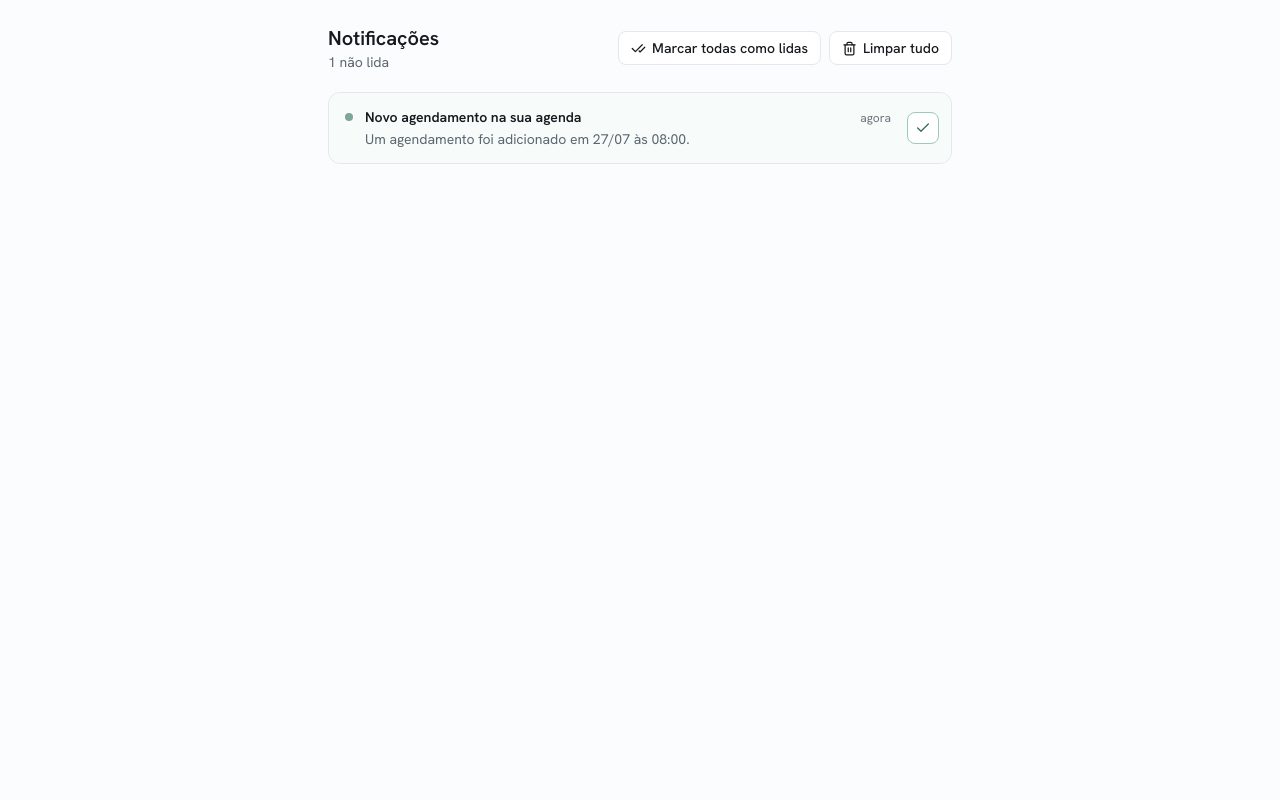
Test case: tela de notificações › limpar tudo › só apaga depois de confirmar
Expected: the button "apagar tudo" is not shown
Click the button "Limpar tudo" at (890, 48), box [829, 31, 952, 65]
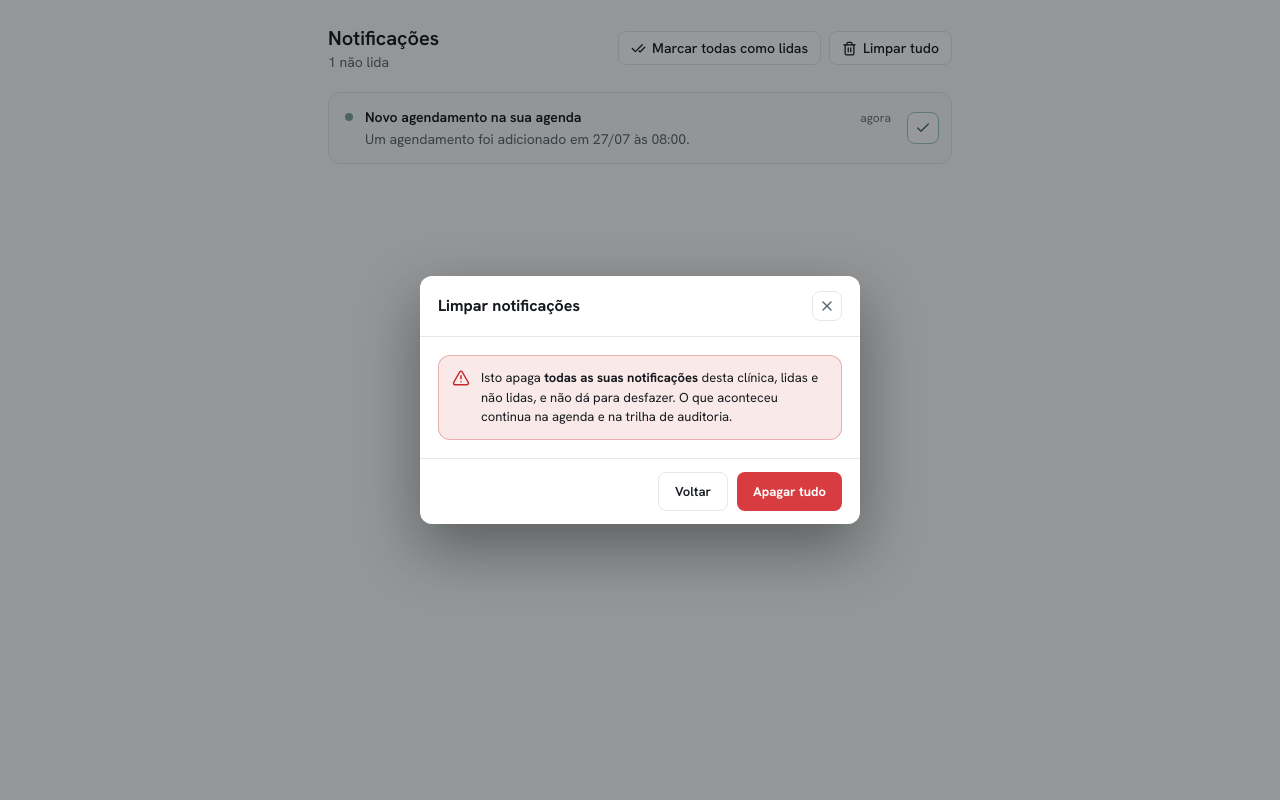
Result: the text "não dá para desfazer" is shown at [481, 369, 818, 425]
Result: the button "Apagar tudo" is shown at [737, 472, 842, 511]
